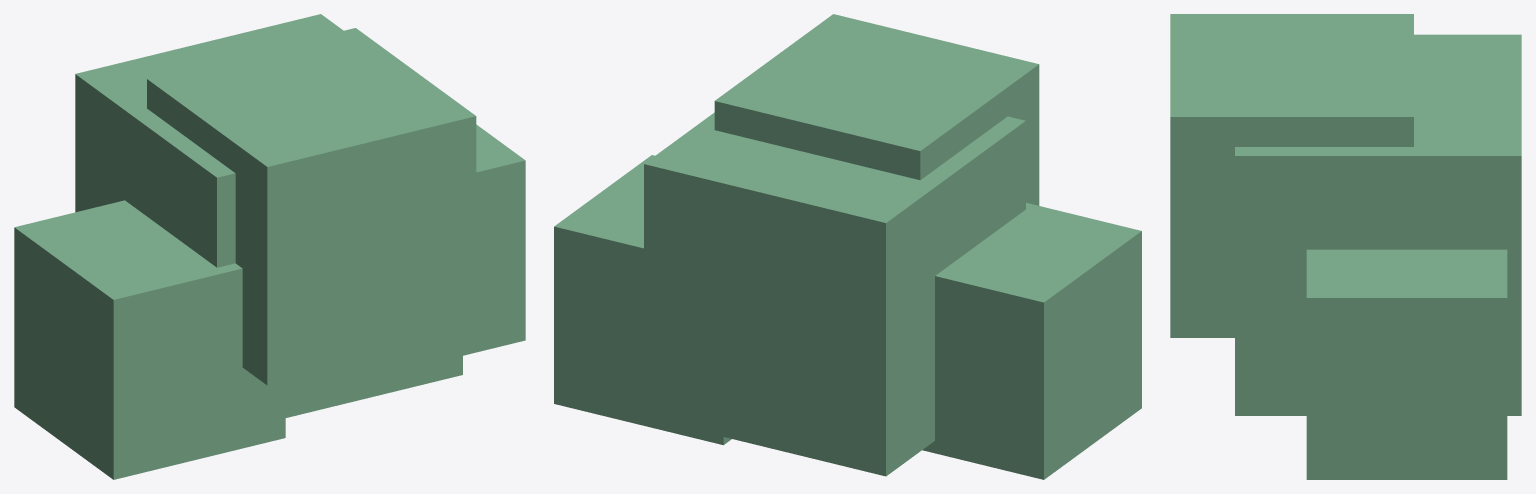
Rendered from plant-bushdetailed.gltf.
3 views of the same model, side by side, from view 1: azimuth 30°, elevation 25°; view 2: azimuth 150°, elevation 25°; view 3: azimuth 270°, elevation 25° (orthographic). The views are drawn at different scales.
Parts seen in each view (by area): view 1: TreeLeaf; view 2: TreeLeaf; view 3: TreeLeaf.
Boxes of the visible parts, x1,y1,x2,y2 form: TreeLeaf: (14, 14, 525, 479); TreeLeaf: (554, 14, 1141, 479); TreeLeaf: (1170, 14, 1521, 479).
Size of the model in its own units: 1.85 by 1.17 by 1.23.
